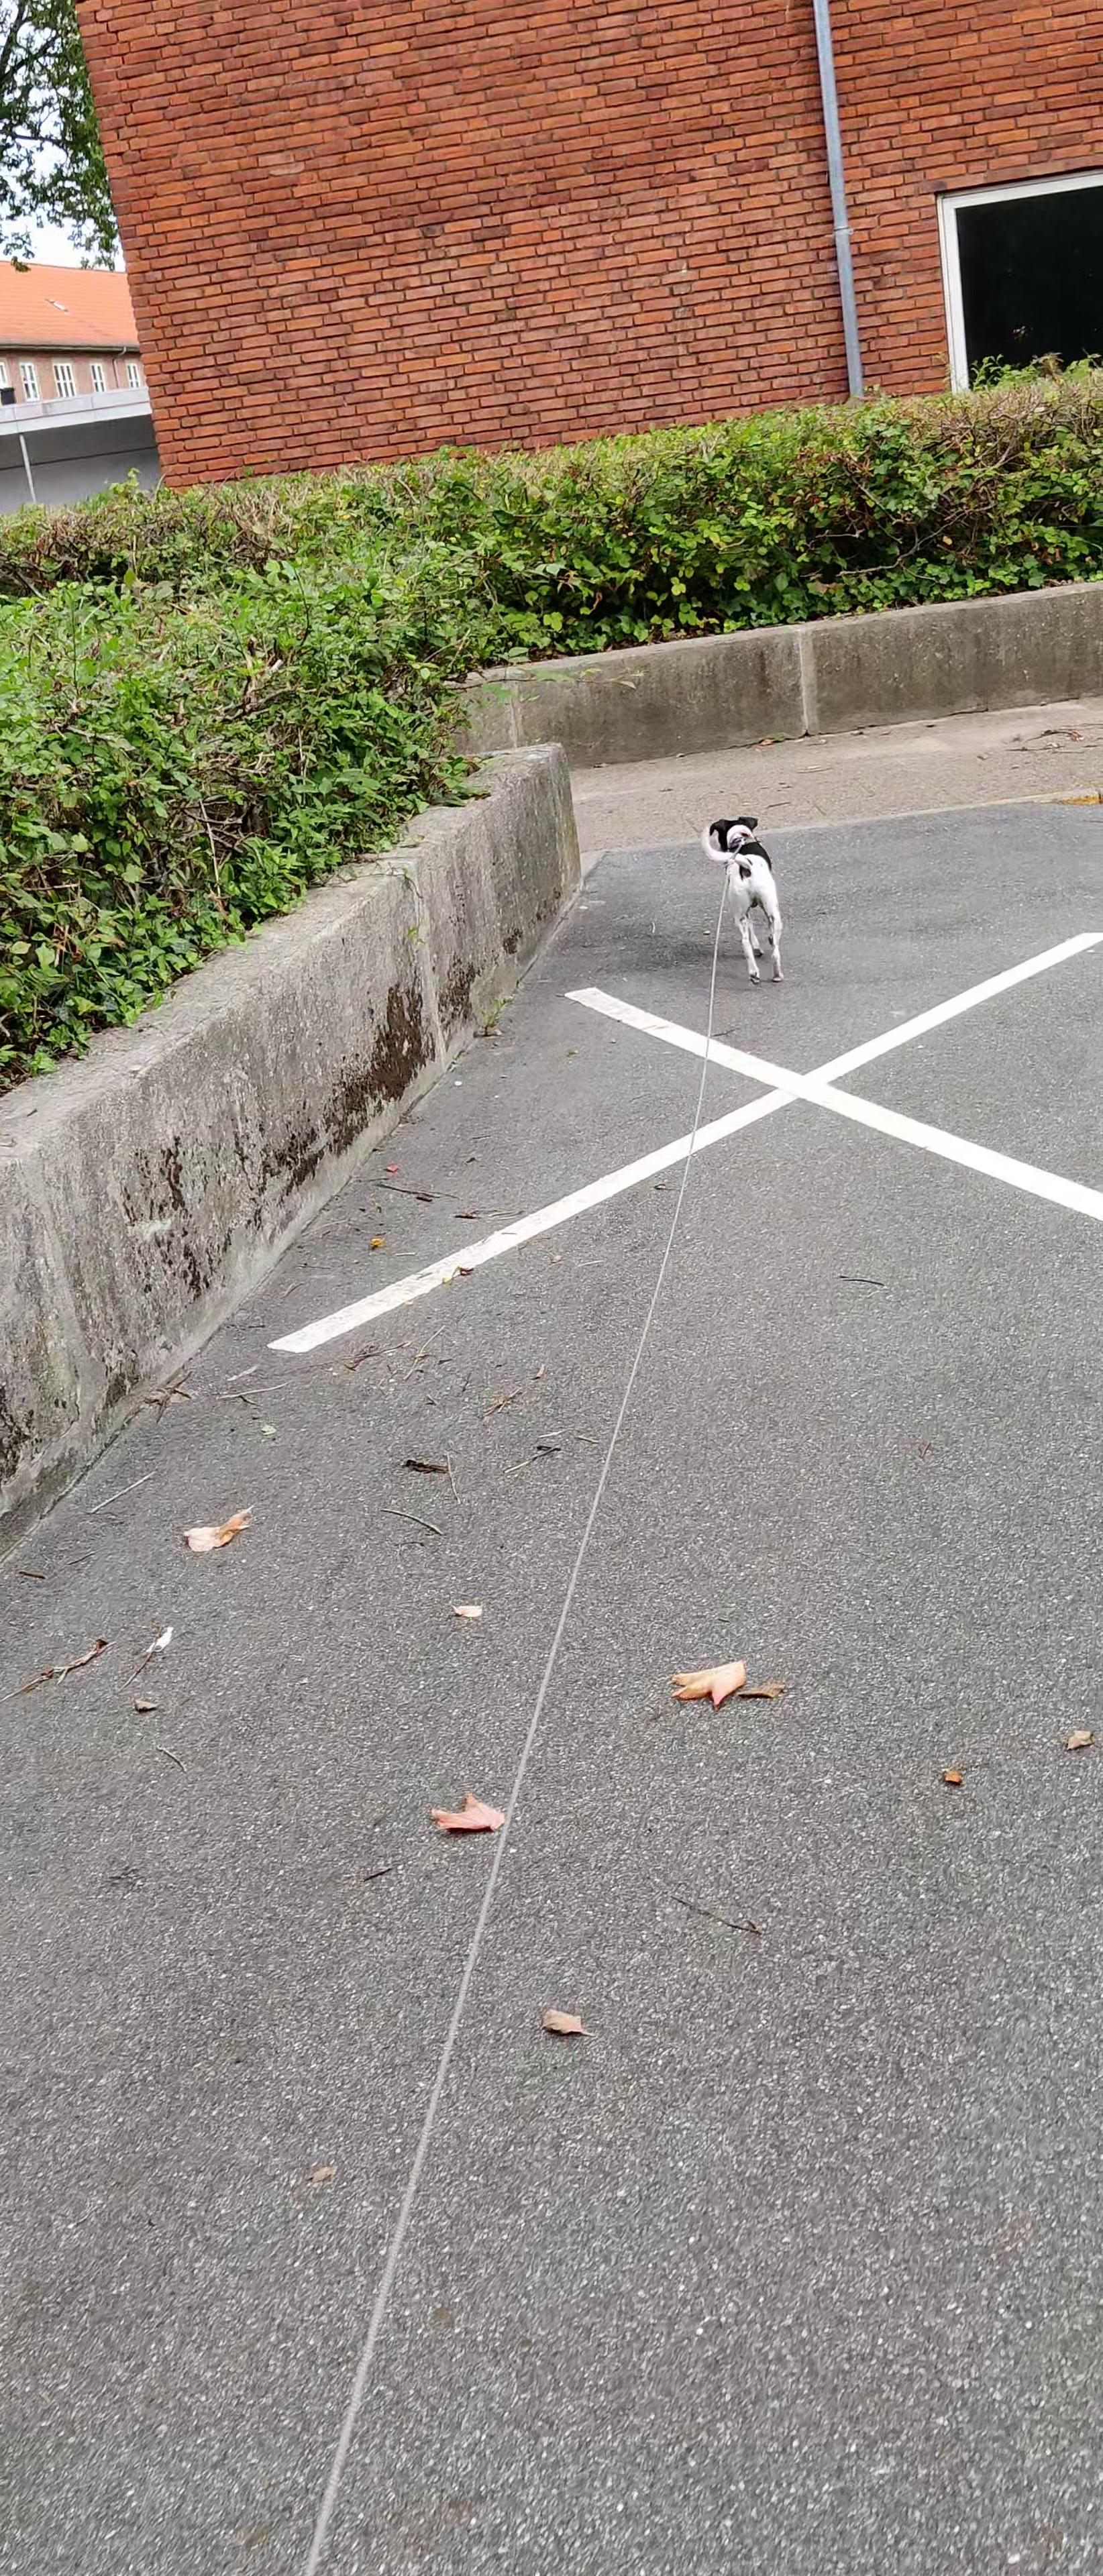Dog: (681, 800, 809, 996)
